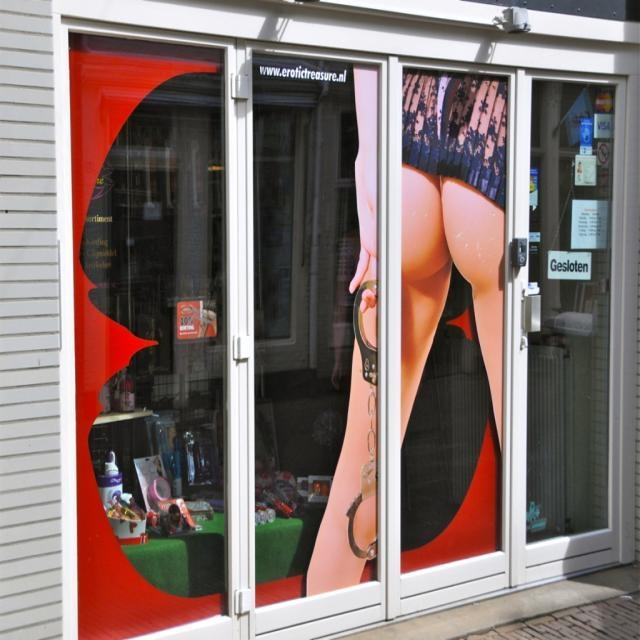door: (52, 3, 636, 640)
